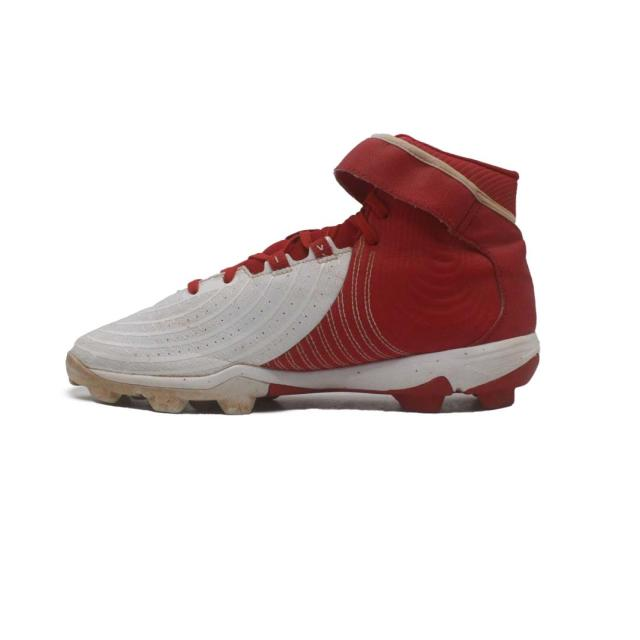heel: (478, 161, 533, 338)
midsole: (67, 333, 541, 419)
uppersole: (72, 138, 504, 376)
